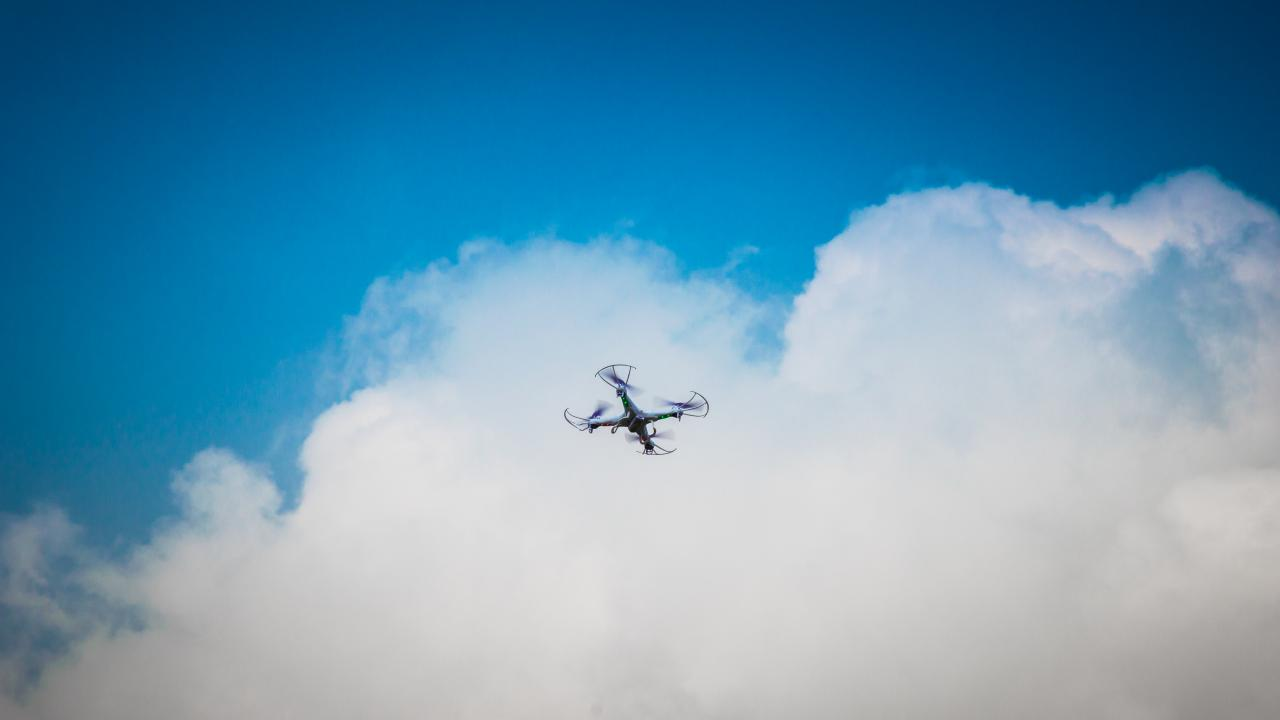Drone: (546, 351, 722, 472)
